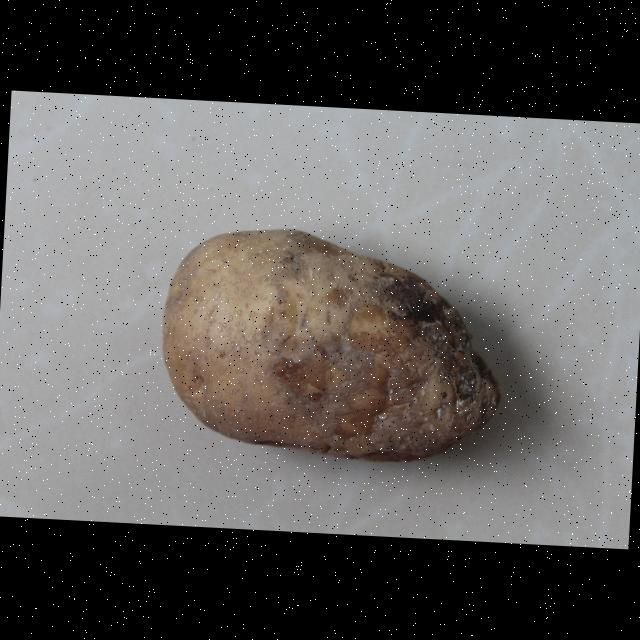Diseased-fungal potato: (155, 220, 518, 470)
